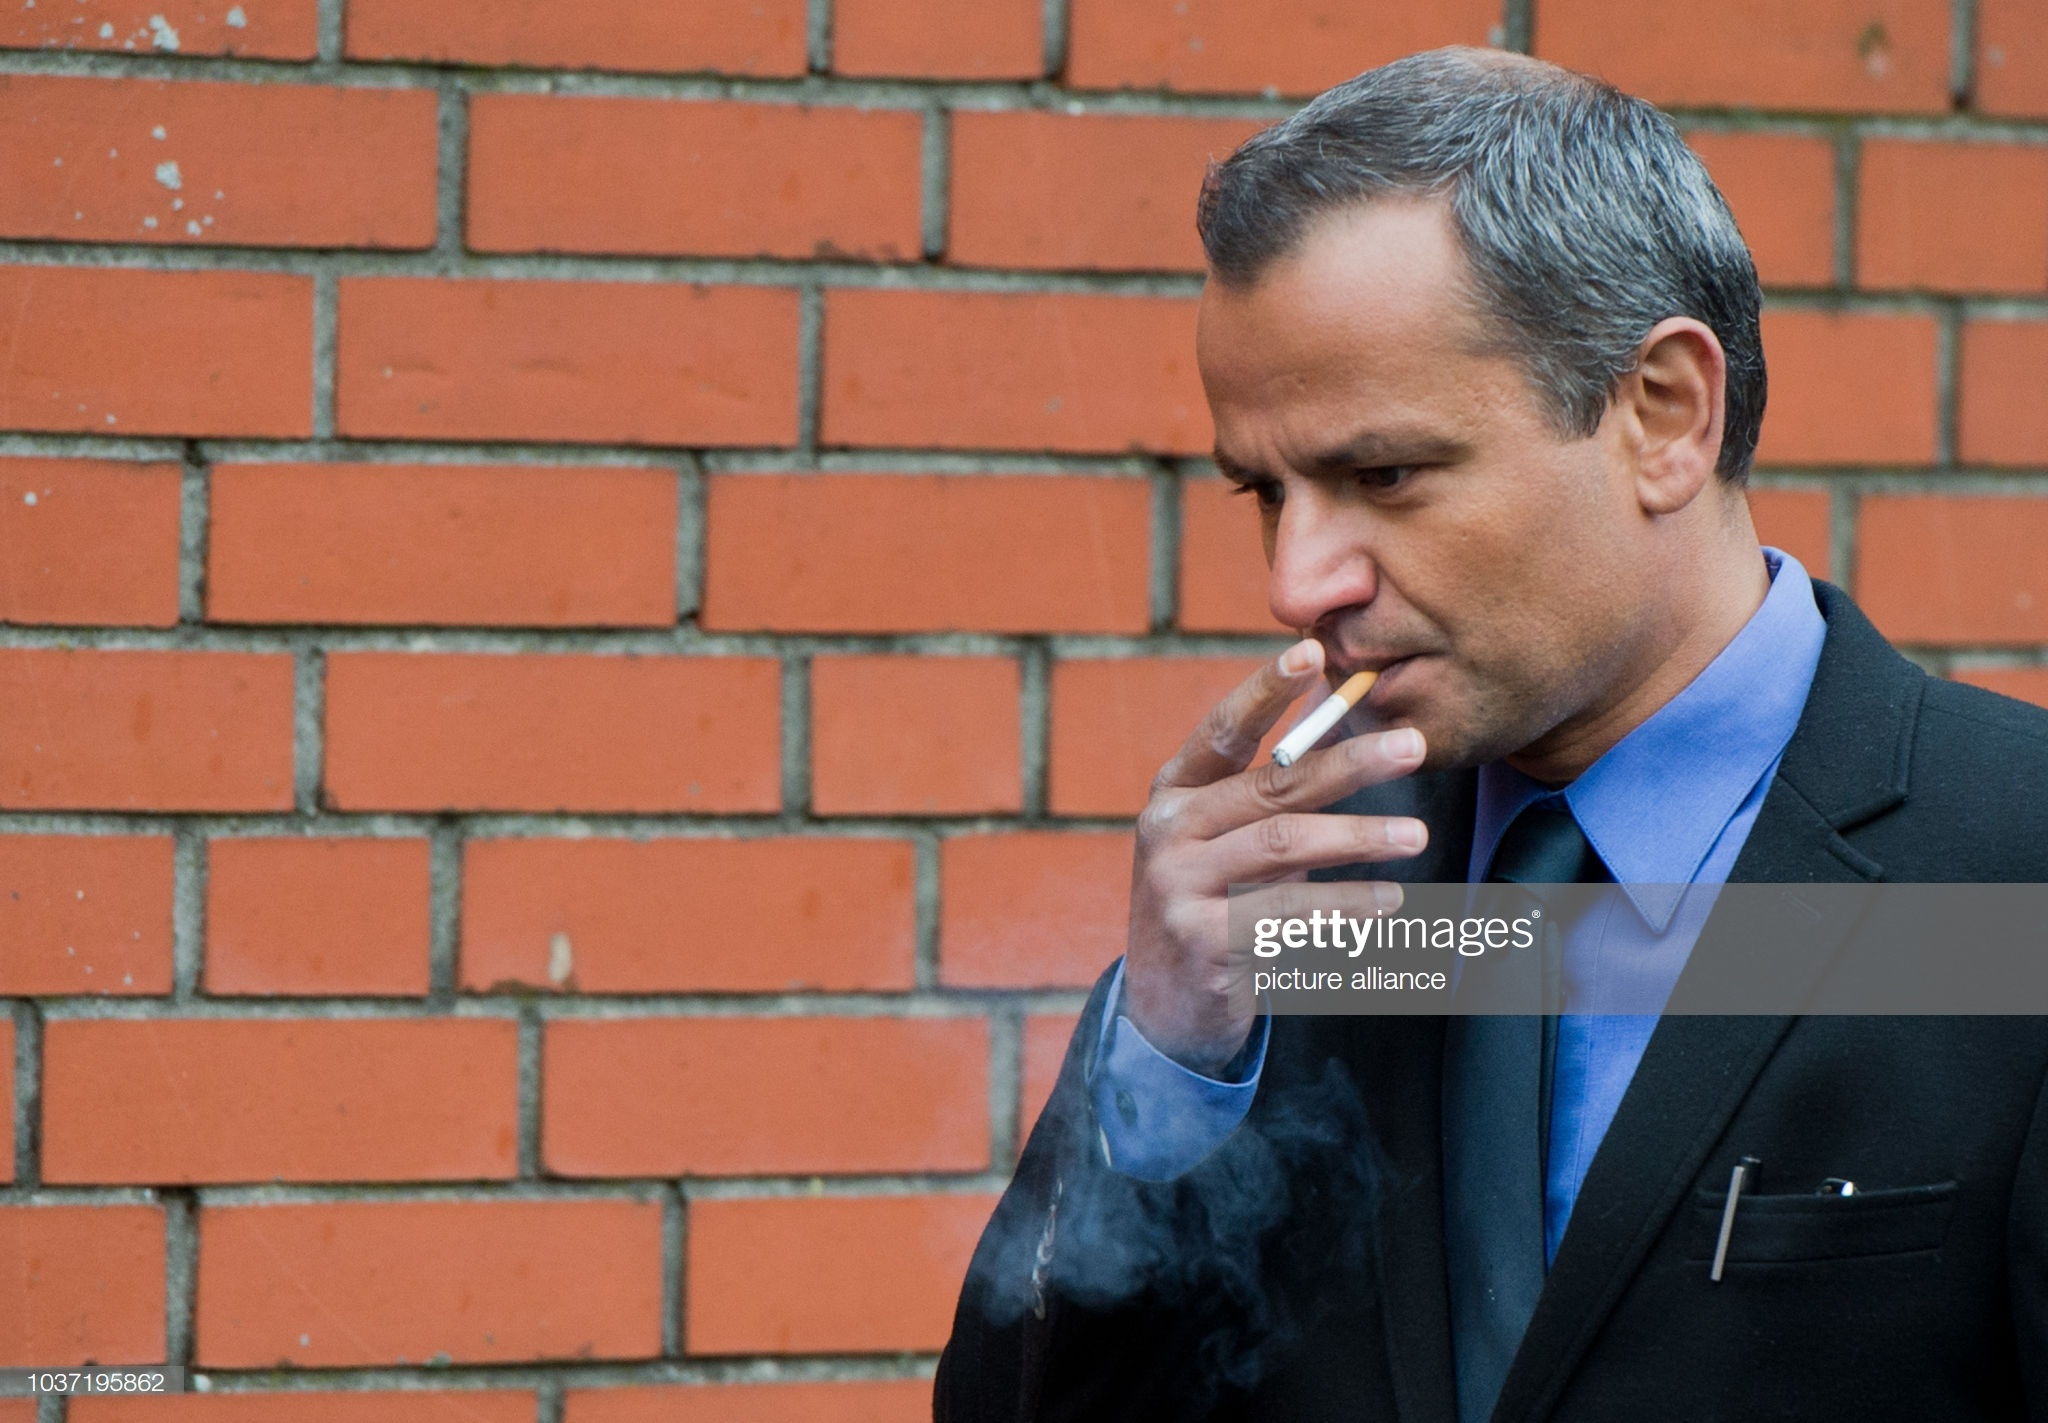sigaretta: (1257, 660, 1369, 774)
